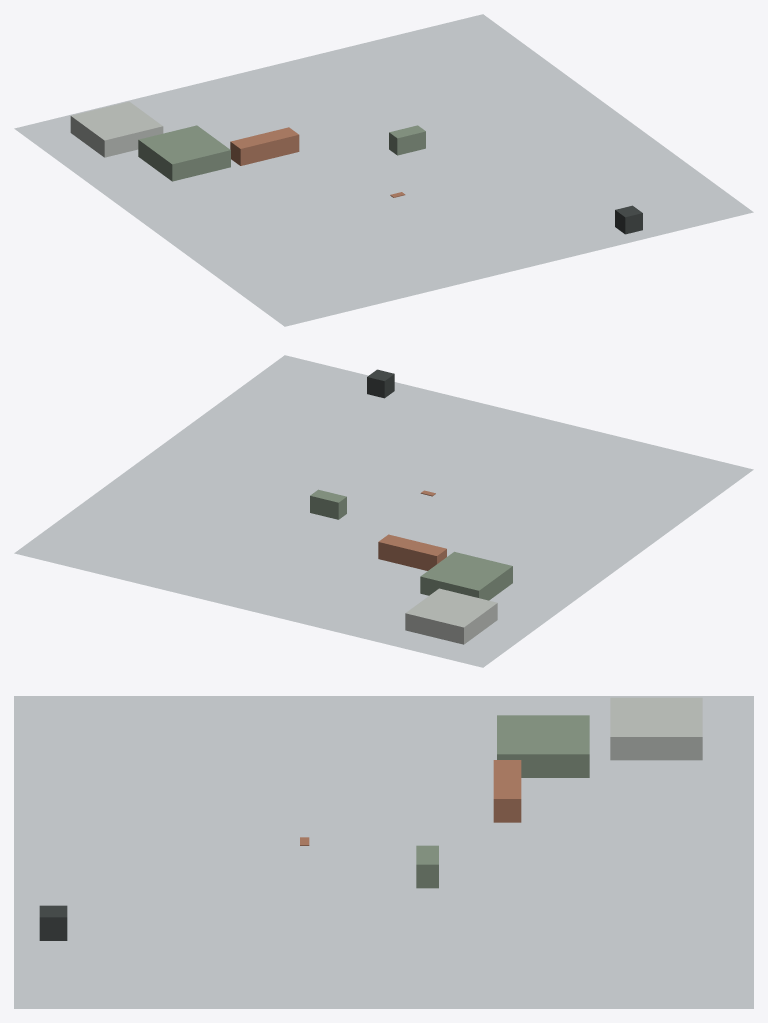
File: site.glb
3 views of the same model, one above another, from view 1: azimuth 30°, elevation 25°; view 2: azimuth 150°, elevation 25°; view 3: azimuth 270°, elevation 25° (orthographic). The views are drawn at different scales.
Visible parts, largest first — view 1: 边界41_平面展示底板_非实测地形, F05_Almoxarifado_handle4E_illustration, F01_Deposito_handle42_illustration, F04_Refeitorio_handle4B_illustration, F03_Banheiro_handle48_illustration, F02_Elevador_handle45_illustration; view 2: 边界41_平面展示底板_非实测地形, F01_Deposito_handle42_illustration, F05_Almoxarifado_handle4E_illustration, F04_Refeitorio_handle4B_illustration, F03_Banheiro_handle48_illustration, F02_Elevador_handle45_illustration; view 3: 边界41_平面展示底板_非实测地形, F01_Deposito_handle42_illustration, F05_Almoxarifado_handle4E_illustration, F04_Refeitorio_handle4B_illustration, F02_Elevador_handle45_illustration, F03_Banheiro_handle48_illustration.
Boxes of the visible parts, x1,y1,x2,y2 form: 边界41_平面展示底板_非实测地形: (14, 14, 753, 326); F05_Almoxarifado_handle4E_illustration: (138, 125, 230, 181); F01_Deposito_handle42_illustration: (70, 101, 163, 157); F04_Refeitorio_handle4B_illustration: (230, 127, 299, 165); F03_Banheiro_handle48_illustration: (389, 125, 425, 155); F02_Elevador_handle45_illustration: (615, 205, 642, 234); 边界41_平面展示底板_非实测地形: (14, 355, 753, 667); F01_Deposito_handle42_illustration: (405, 588, 497, 644); F05_Almoxarifado_handle4E_illustration: (420, 551, 512, 600); F04_Refeitorio_handle4B_illustration: (378, 534, 446, 570); F03_Banheiro_handle48_illustration: (310, 489, 346, 519); F02_Elevador_handle45_illustration: (367, 369, 394, 398); 边界41_平面展示底板_非实测地形: (14, 696, 753, 1008); F01_Deposito_handle42_illustration: (610, 697, 702, 760); F05_Almoxarifado_handle4E_illustration: (497, 715, 589, 777); F04_Refeitorio_handle4B_illustration: (493, 760, 521, 822); F02_Elevador_handle45_illustration: (39, 905, 67, 940); F03_Banheiro_handle48_illustration: (416, 845, 438, 888).
Bounding box in the file's own units: 80 × 2.82 × 80.
